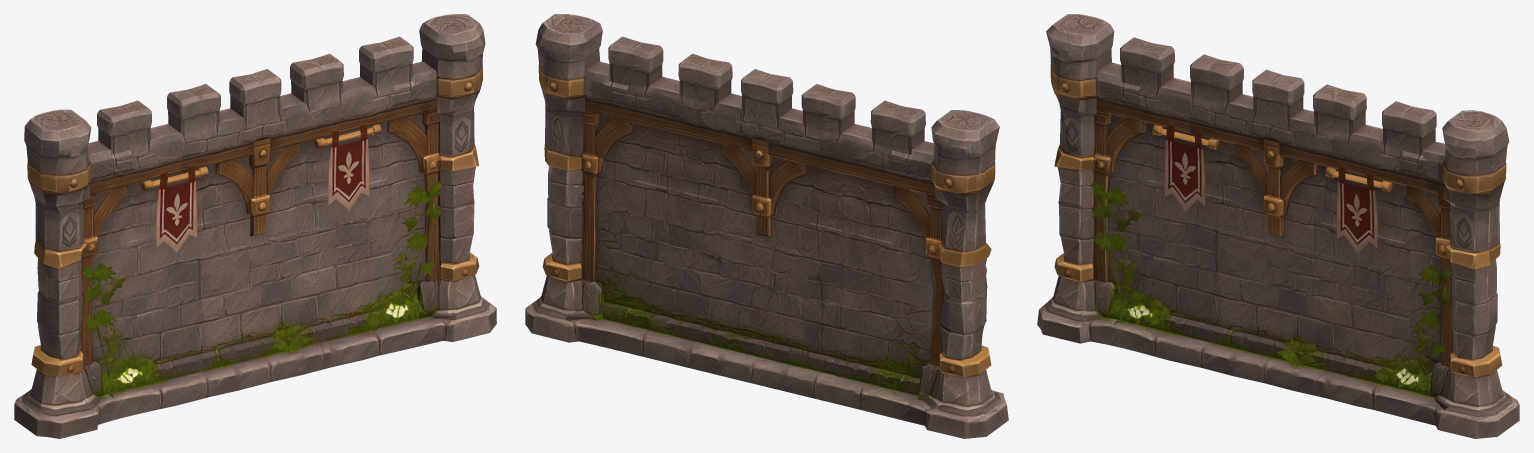
Rendered from city-wall.glb.
The picture shows the model from 3 angles, left to right: view 1: azimuth 30°, elevation 25°; view 2: azimuth 150°, elevation 25°; view 3: azimuth 330°, elevation 25°; orthographic projection.
Visible parts, largest first — view 1: city-wall; view 2: city-wall; view 3: city-wall.
Boxes of the visible parts, x1,y1,x2,y2 form: city-wall: (14,14,496,438); city-wall: (525,14,1008,438); city-wall: (1037,14,1519,438).
Size of the model in its own units: 19.27 by 12 by 2.91.
Materials: 1 (1 with a texture image).
